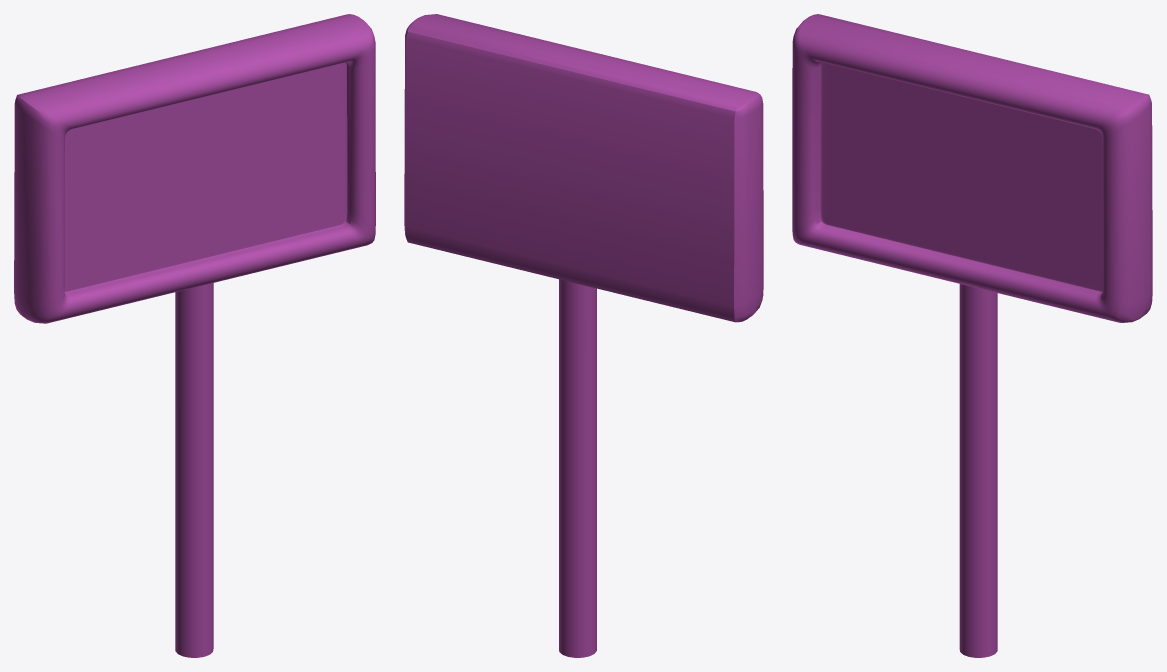
File: sign.fbx
3 views of the same model, side by side, from view 1: azimuth 30°, elevation 25°; view 2: azimuth 150°, elevation 25°; view 3: azimuth 330°, elevation 25° (orthographic).
Visible parts, largest first — view 1: sign; view 2: sign; view 3: sign.
Boxes of the visible parts, x1,y1,x2,y2 form: sign: [14, 14, 375, 657]; sign: [404, 14, 763, 657]; sign: [792, 14, 1152, 657].
Size of the model in its own units: 577 by 950 by 94.09.
